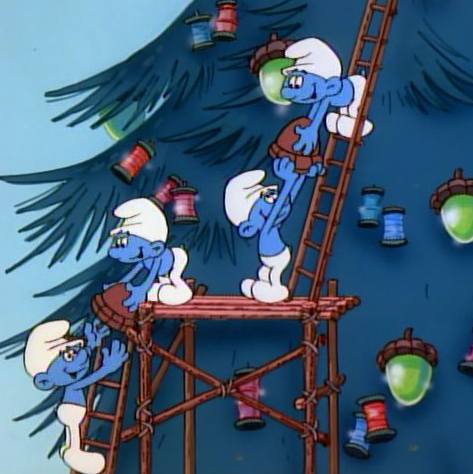smurf: (24, 319, 125, 472), (281, 34, 376, 139), (107, 195, 191, 308), (224, 167, 292, 303)
